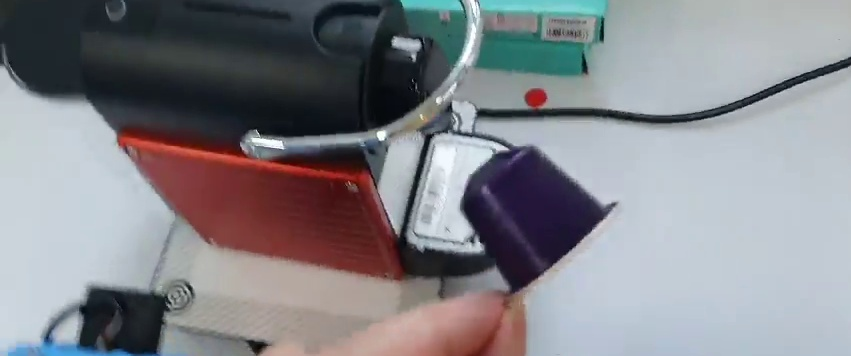capsule_11: (460, 142, 624, 300)
